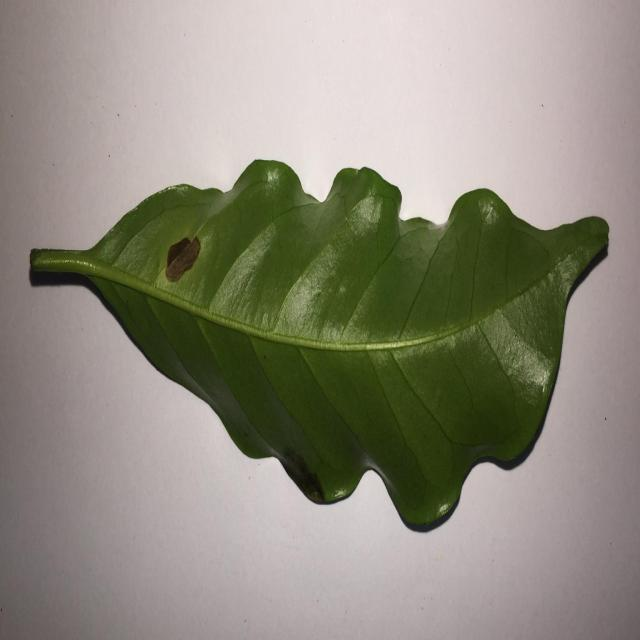Plaga-Minador: (28, 159, 612, 536)
